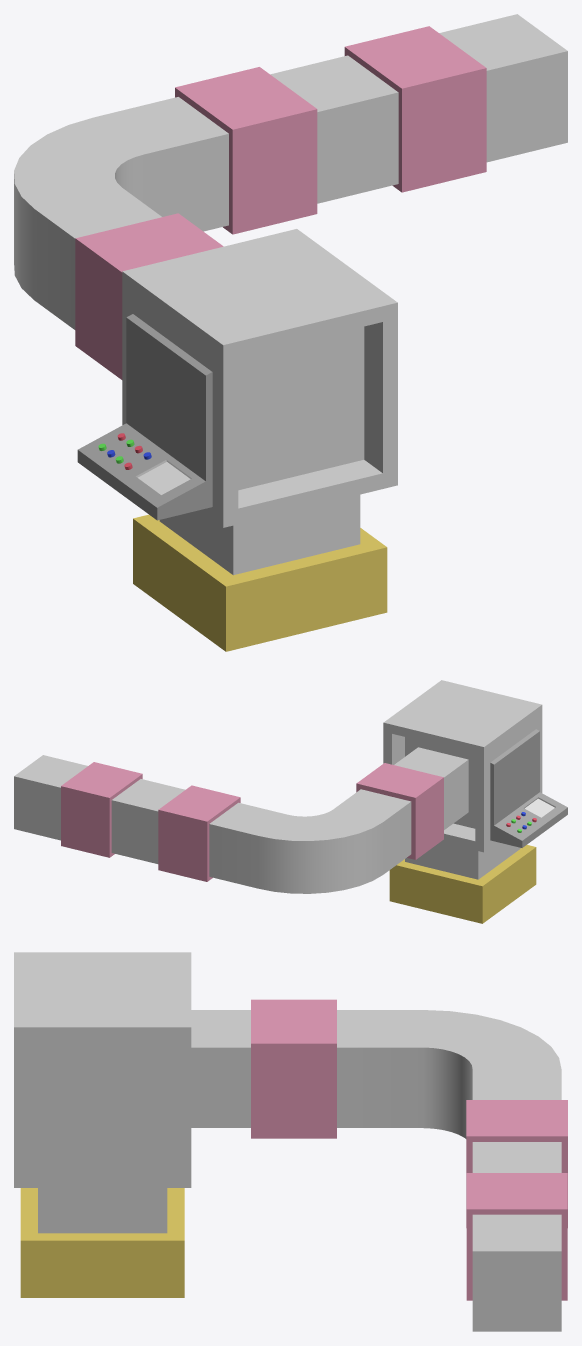
The model's file is metal_machine2.fbx.
The picture shows the model from 3 angles, top to bottom: view 1: azimuth 30°, elevation 25°; view 2: azimuth 150°, elevation 25°; view 3: azimuth 270°, elevation 25°; orthographic projection. The views are drawn at different scales.
Visible parts, largest first — view 1: aa; view 2: aa; view 3: aa.
Boxes of the visible parts, x1,y1,x2,y2 form: aa: [14, 14, 567, 651]; aa: [14, 680, 567, 923]; aa: [14, 952, 567, 1331].
Size of the model in its own units: 168 by 75.51 by 138.
